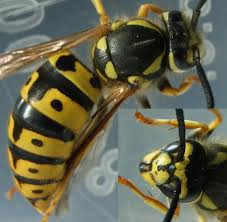chax: (3, 7, 208, 105), (123, 111, 223, 218)
